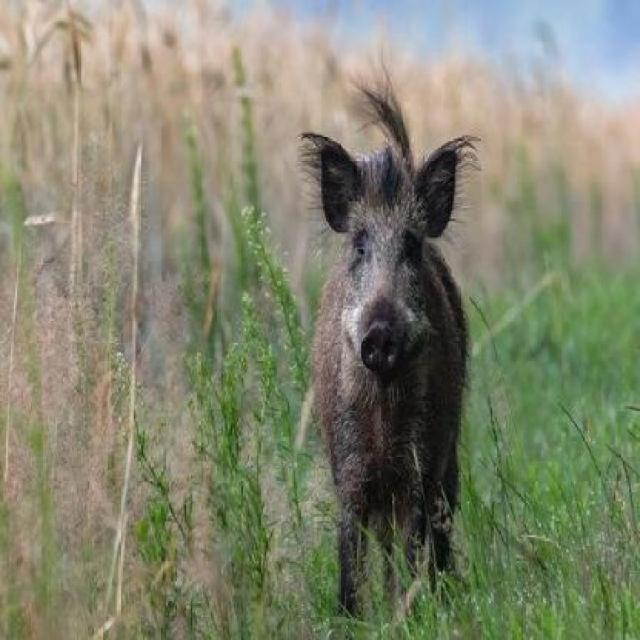wildboar: (300, 66, 485, 623)
